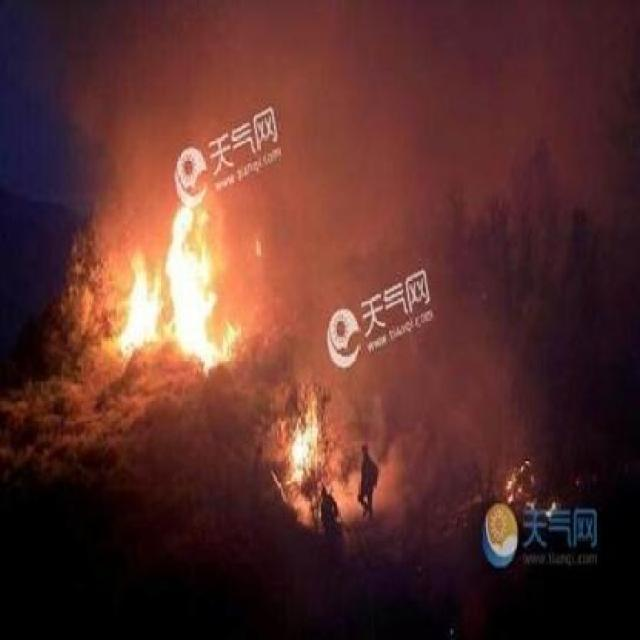Fire: (99, 180, 246, 382), (512, 460, 564, 532), (289, 394, 324, 500)
